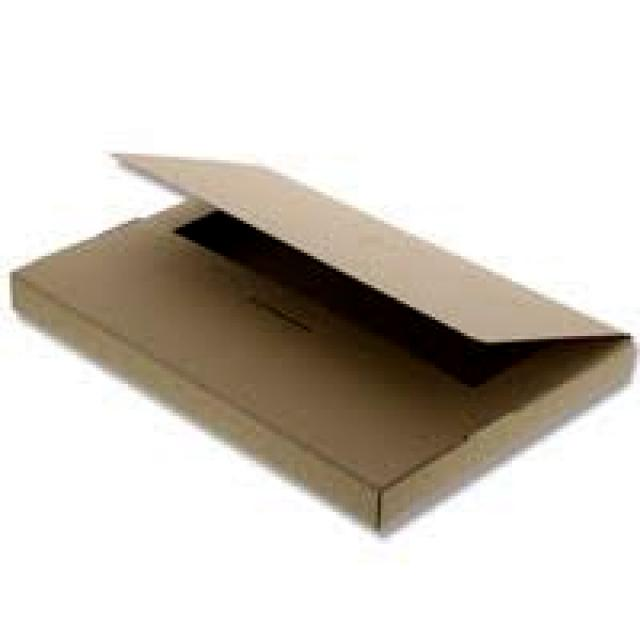Cardboard: (4, 150, 640, 549)
